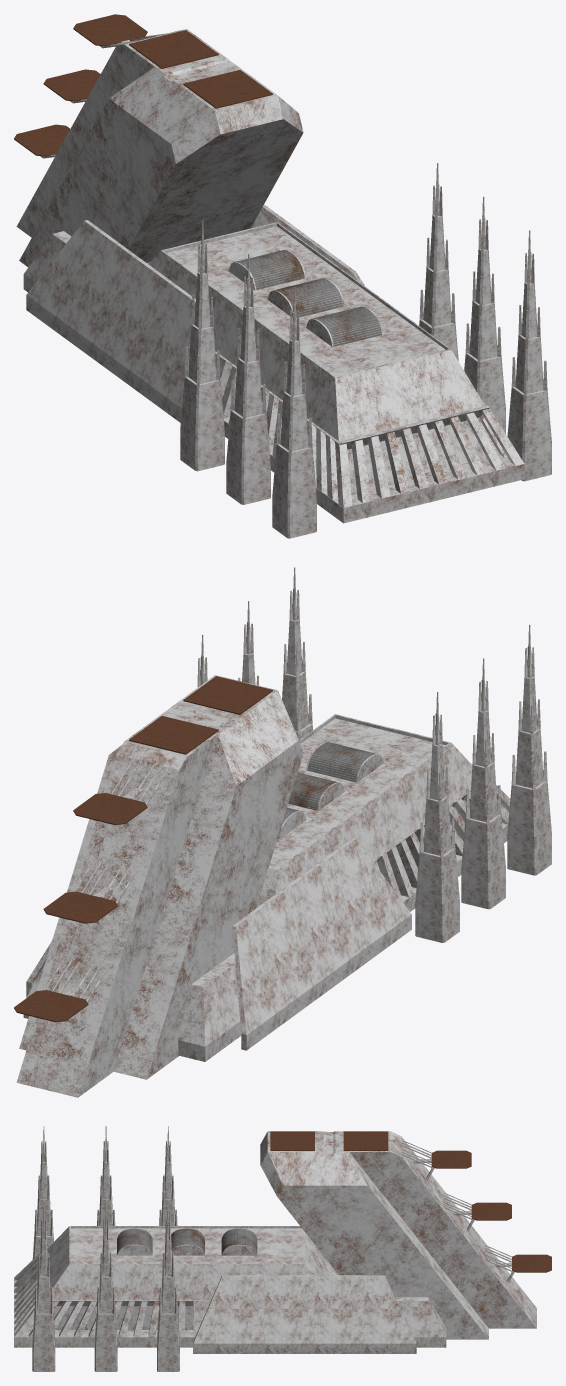
Rendered from CreditorTempleV1.fbx.
3 renders of one model, top to bottom at view 1: azimuth 30°, elevation 25°; view 2: azimuth 150°, elevation 25°; view 3: azimuth 270°, elevation 25°, orthographic. The views are drawn at different scales.
Parts seen in each view (by area): view 1: CreditorTemple V1, Tower, Spires, Colums, LandigPad345, LandigPad2, LandigPad1; view 2: Tower, CreditorTemple V1, Spires, LandigPad345, Colums, LandigPad1, LandigPad2; view 3: CreditorTemple V1, Tower, Spires, Colums, LandigPad345, LandigPad2, LandigPad1.
Part boxes in pixels (x1,y1,x2,y2): CreditorTemple V1: (23,204,524,523); Tower: (16,29,303,267); Spires: (180,163,551,538); Colums: (222,366,524,507); LandigPad345: (14,14,165,158); LandigPad2: (129,30,218,68); LandigPad1: (183,70,272,108); Tower: (16,675,303,1097); CreditorTemple V1: (23,714,509,1061); Spires: (197,567,551,942); LandigPad345: (14,757,169,1022); Colums: (377,785,510,901); LandigPad1: (183,676,272,714); LandigPad2: (129,716,218,754); CreditorTemple V1: (14,1226,446,1353); Tower: (260,1131,536,1339); Spires: (32,1126,179,1371); Colums: (14,1254,185,1337); LandigPad345: (401,1139,551,1282); LandigPad2: (343,1131,388,1150); LandigPad1: (270,1131,314,1150).
Bounding box in the file's own units: 469475 × 180106 × 180384.
3 materials, 3 textured.
